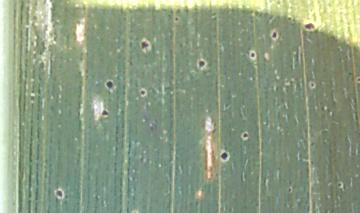tarspot: (53, 189, 64, 199), (139, 40, 151, 49), (304, 22, 315, 31), (219, 151, 229, 160), (139, 88, 146, 98), (106, 80, 113, 89), (197, 61, 206, 68), (100, 109, 108, 116), (271, 30, 277, 39), (173, 15, 179, 23), (336, 181, 342, 189), (287, 15, 293, 22), (242, 132, 248, 138), (309, 82, 315, 88), (287, 187, 293, 193), (250, 51, 255, 58), (357, 77, 360, 82)
